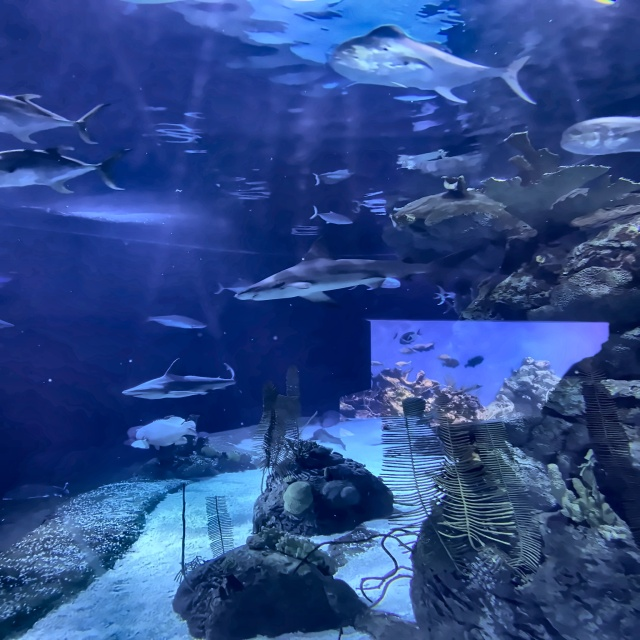fish: (330, 25, 537, 105), (0, 146, 131, 196), (0, 93, 111, 145), (562, 117, 639, 155), (132, 416, 196, 451), (146, 314, 207, 331), (350, 275, 403, 290), (310, 207, 353, 225), (214, 279, 258, 295), (434, 285, 465, 305), (399, 329, 424, 345), (412, 341, 437, 353), (464, 355, 484, 368), (440, 358, 459, 369), (395, 360, 410, 368), (401, 348, 415, 355), (434, 355, 450, 361), (370, 361, 384, 367), (393, 329, 398, 340)
shark: (238, 235, 485, 306), (123, 358, 238, 400), (309, 428, 347, 451)
stingray: (2, 483, 69, 501)
